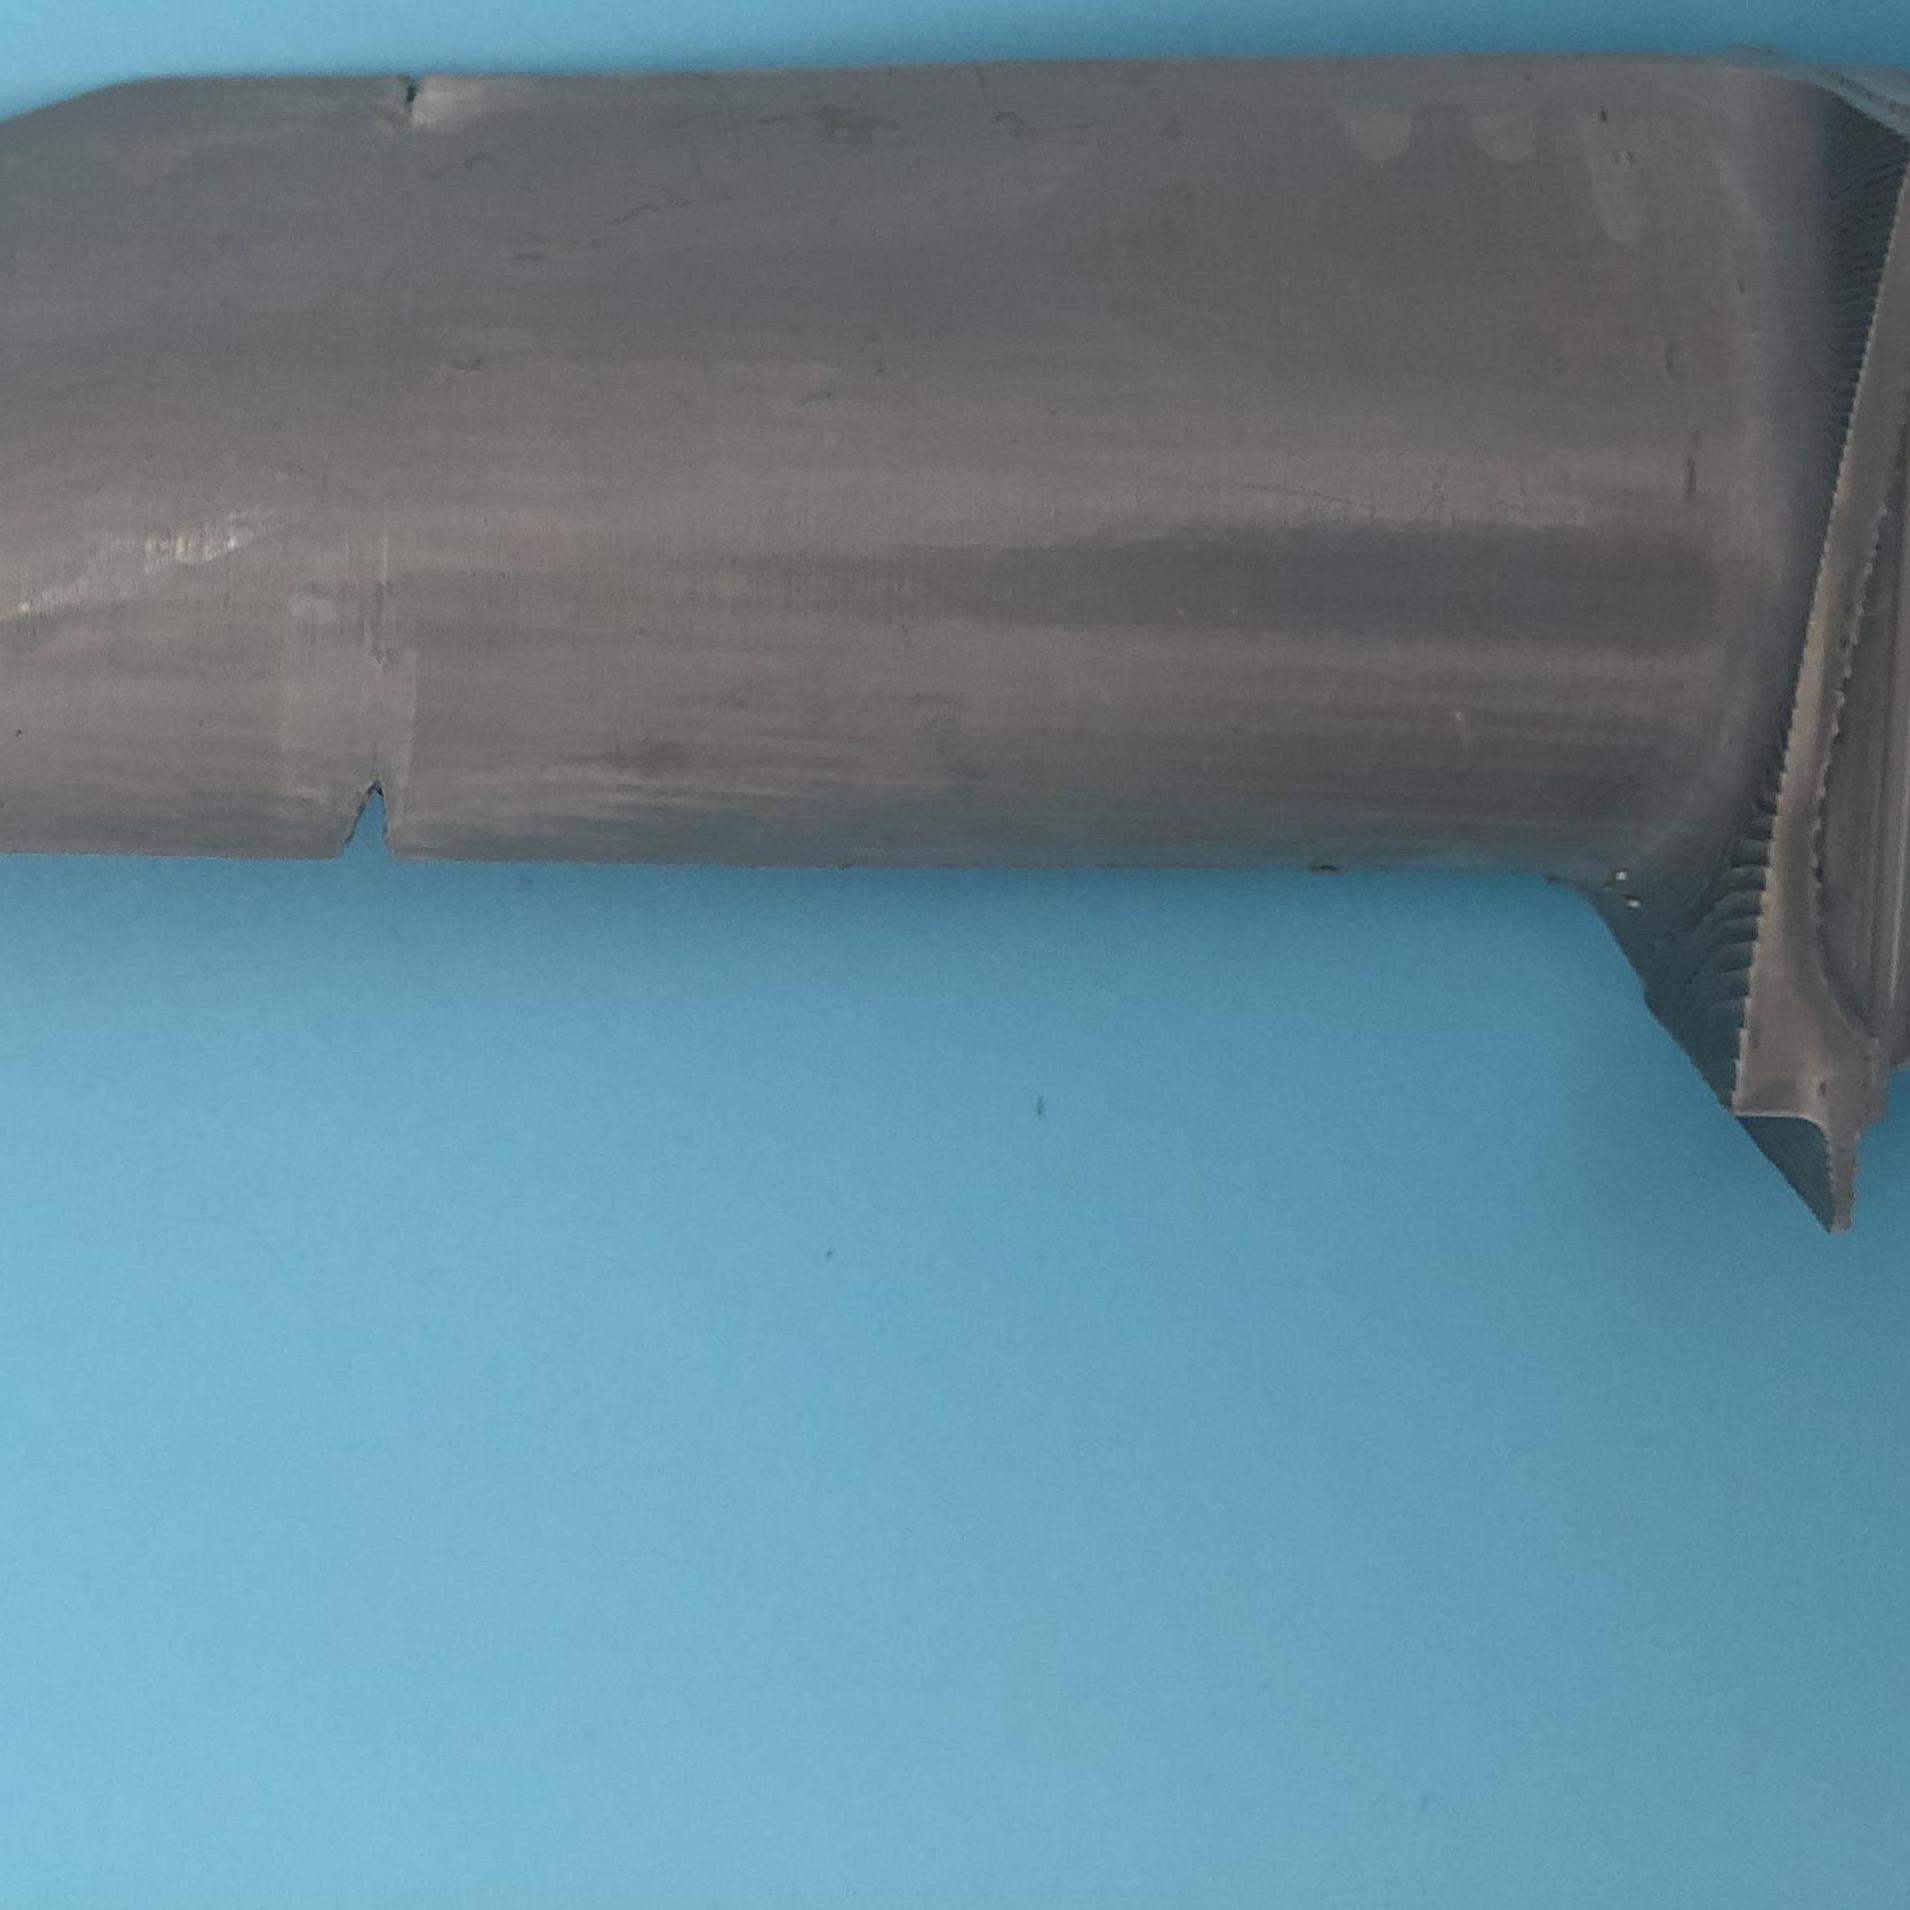groove: (318, 773, 443, 868), (385, 75, 464, 122)
